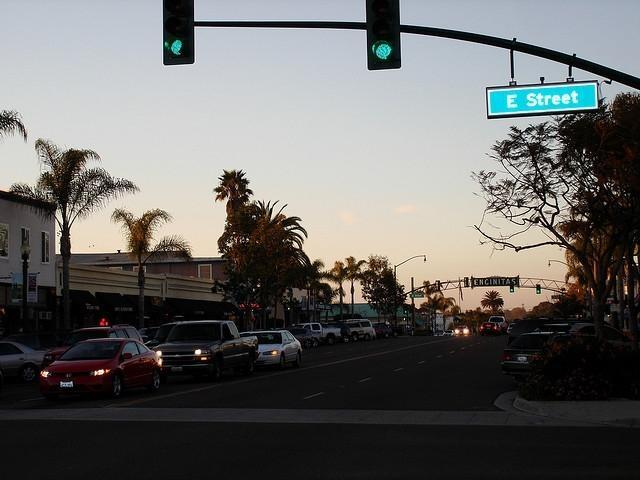car: (38, 339, 164, 401), (40, 323, 146, 377), (501, 330, 596, 380), (237, 330, 302, 370), (536, 323, 634, 344), (0, 341, 46, 384), (278, 328, 315, 348), (354, 318, 378, 340), (345, 322, 365, 341), (479, 322, 500, 336), (454, 324, 469, 334), (506, 323, 516, 337)
truck: (154, 320, 259, 384)
